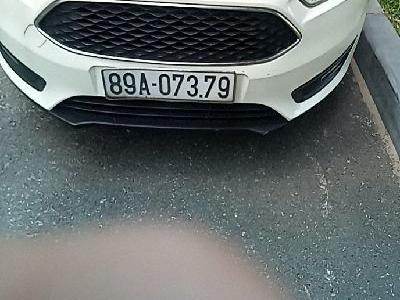car: (100, 66, 236, 105)
